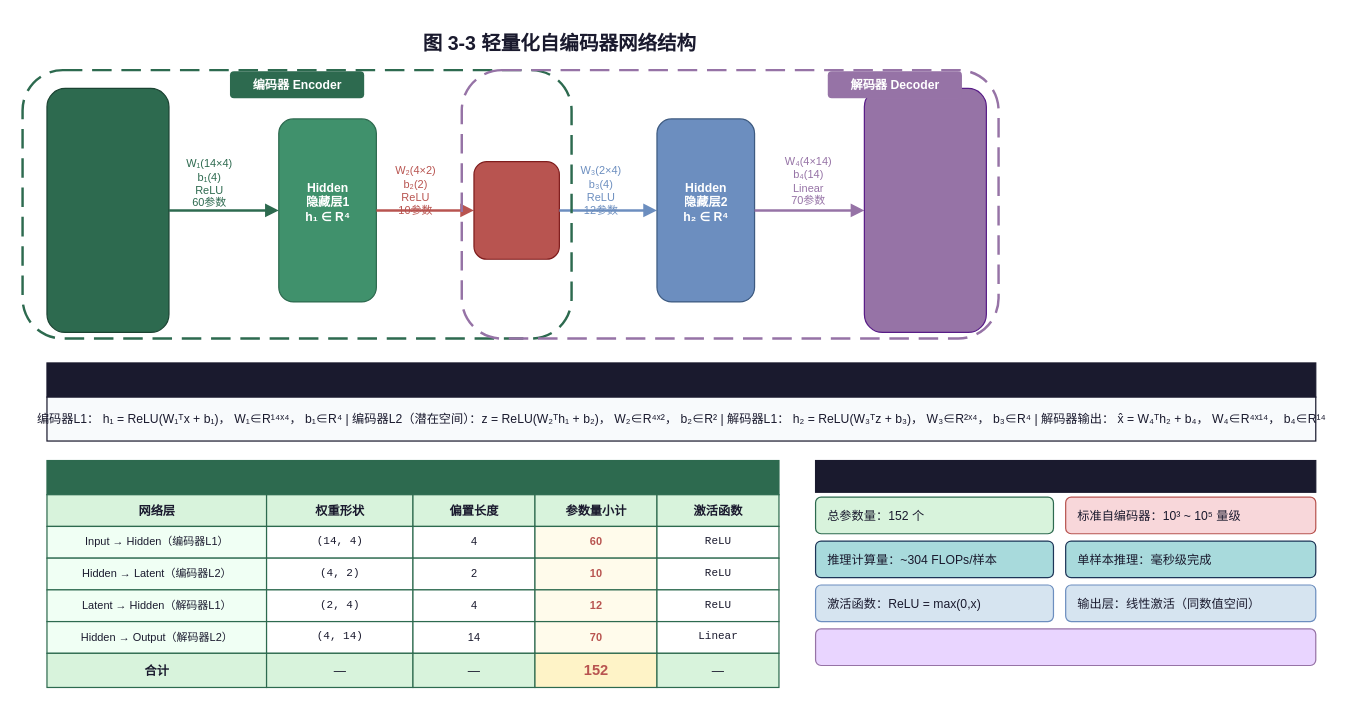
Image size: 1347x709. Some labels were removed from this diagram. Each missing label, with the centre of its shape:
Input 输入层 x ∈ R¹⁴: the point at 107,209
Latent 潜在空间 z ∈ R²: the point at 516,209
Output 输出层 x̂ ∈ R¹⁴: the point at 924,209
参数量统计表: the point at 412,477
权重初始化：Kaiming正态 N(0, 2/n_in): the point at 1065,647
轻量化设计要点: the point at 1065,475
逐层数学表达式: the point at 681,379
